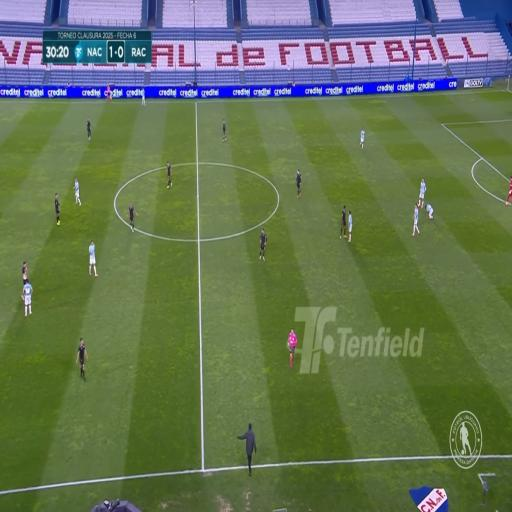Goalkeeper: (507, 172, 512, 206)
Player: (77, 336, 87, 382), (88, 241, 98, 277), (21, 252, 29, 295), (23, 278, 33, 312), (128, 199, 136, 235), (74, 176, 82, 208), (346, 212, 354, 240), (166, 159, 173, 190), (340, 204, 346, 239), (260, 228, 266, 260), (55, 190, 60, 226), (86, 117, 92, 143), (413, 204, 418, 234), (223, 116, 228, 144), (420, 175, 425, 203), (427, 202, 434, 222), (141, 84, 146, 108), (298, 169, 302, 197), (360, 126, 365, 148)
Referee: (288, 327, 297, 367), (105, 82, 111, 100)
